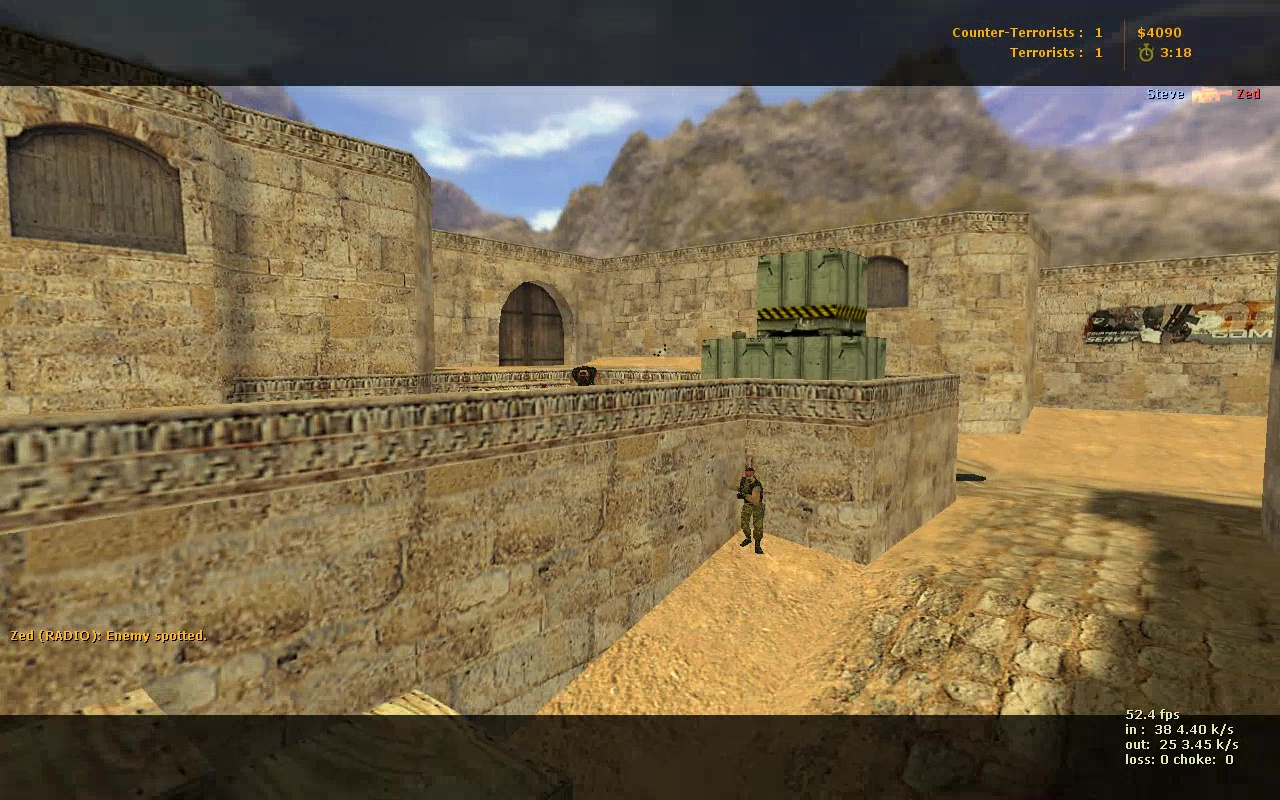terr1: (736, 466, 768, 556)
